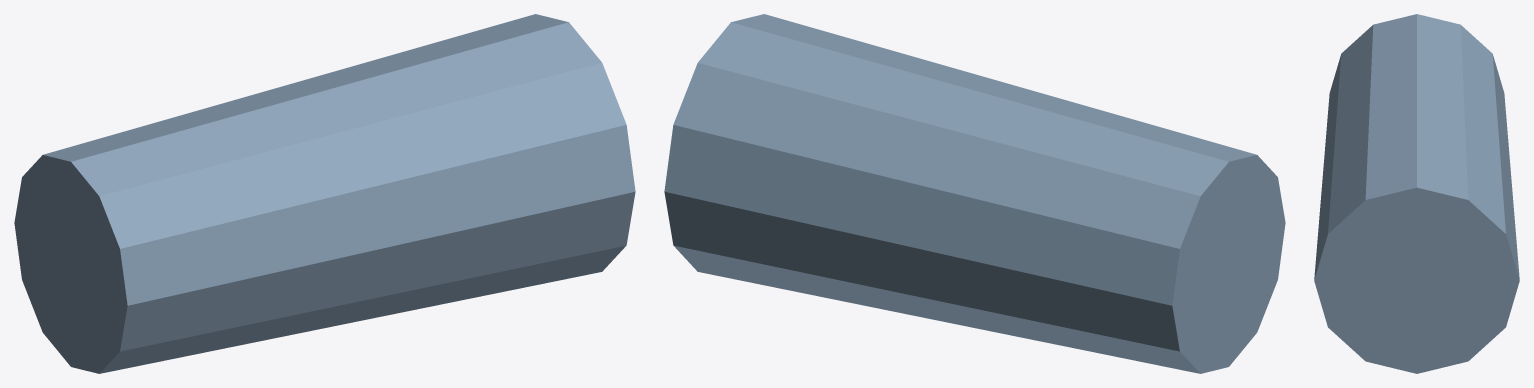
File: bone_22.obj
3 renders of one model, left to right at view 1: azimuth 30°, elevation 25°; view 2: azimuth 150°, elevation 25°; view 3: azimuth 270°, elevation 25°, orthographic. The views are drawn at different scales.
Visible parts, largest first — view 1: bone_22; view 2: bone_22; view 3: bone_22.
Boxes of the visible parts, bbox=[...] form: bone_22: bbox=[14, 14, 635, 373]; bone_22: bbox=[664, 14, 1285, 373]; bone_22: bbox=[1314, 14, 1519, 373].
Bounding box in the file's own units: 0.0302 × 0.014 × 0.014.
